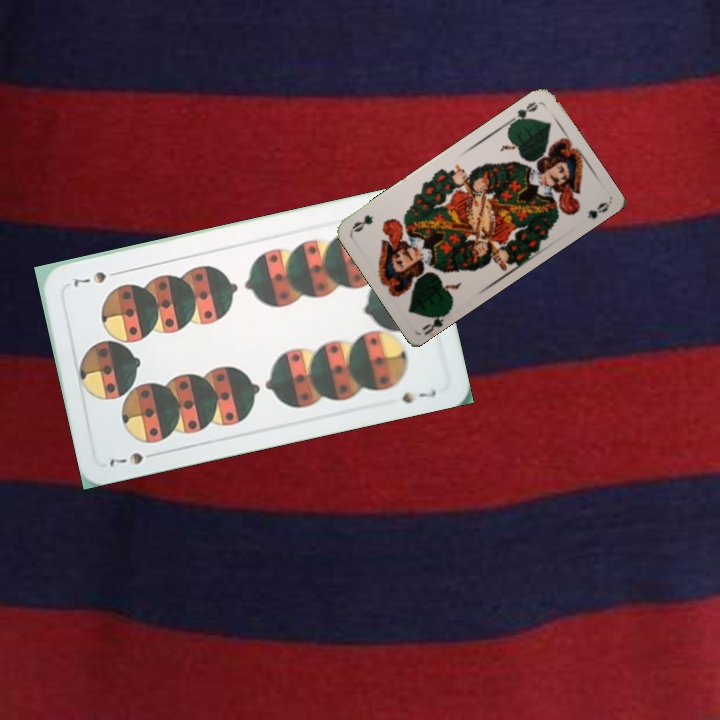GO: (418, 306, 453, 336), (505, 97, 540, 127)
S7: (105, 448, 162, 469)
